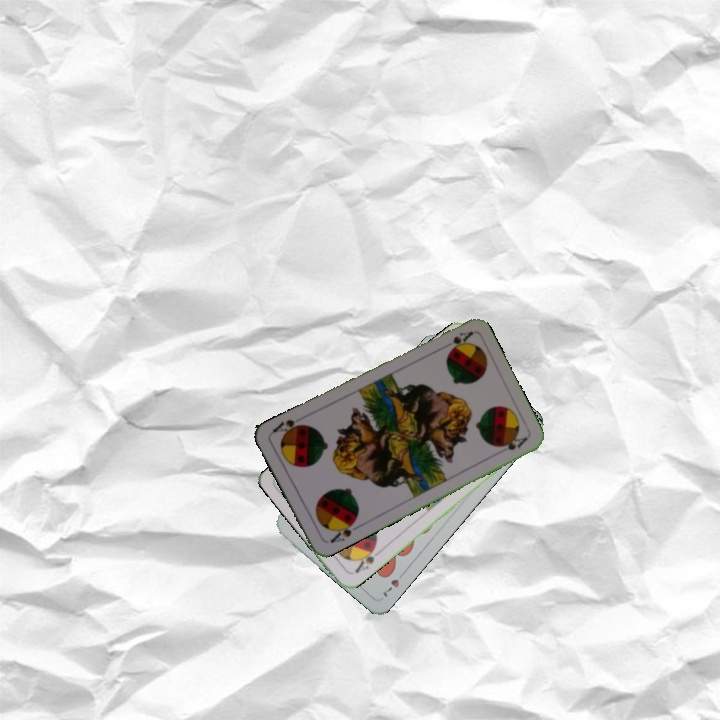H7: (379, 567, 408, 600)
SA: (351, 542, 383, 576), (326, 516, 362, 546), (437, 327, 475, 353)
